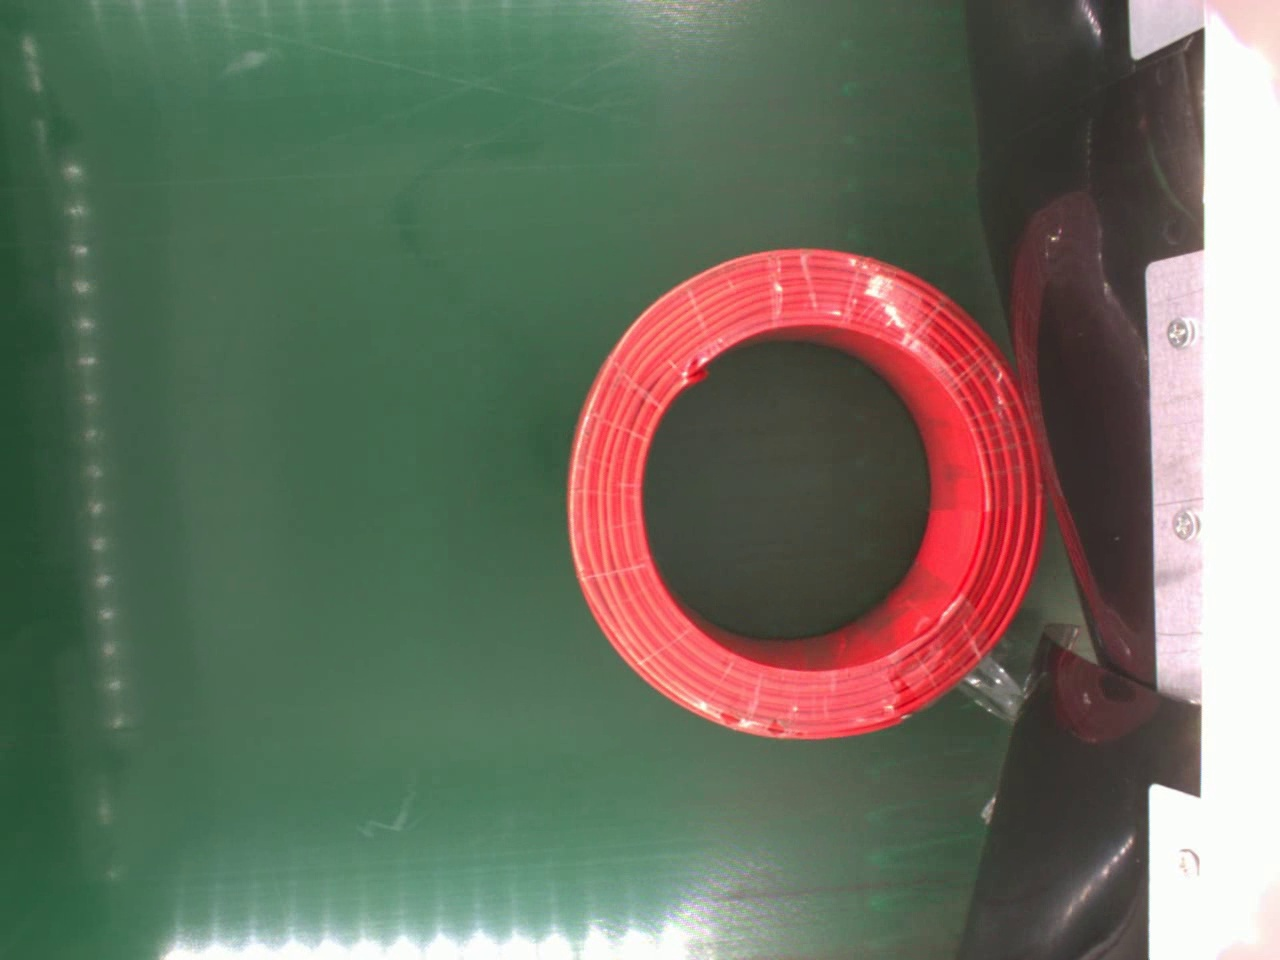red: (564, 248, 1043, 742)
